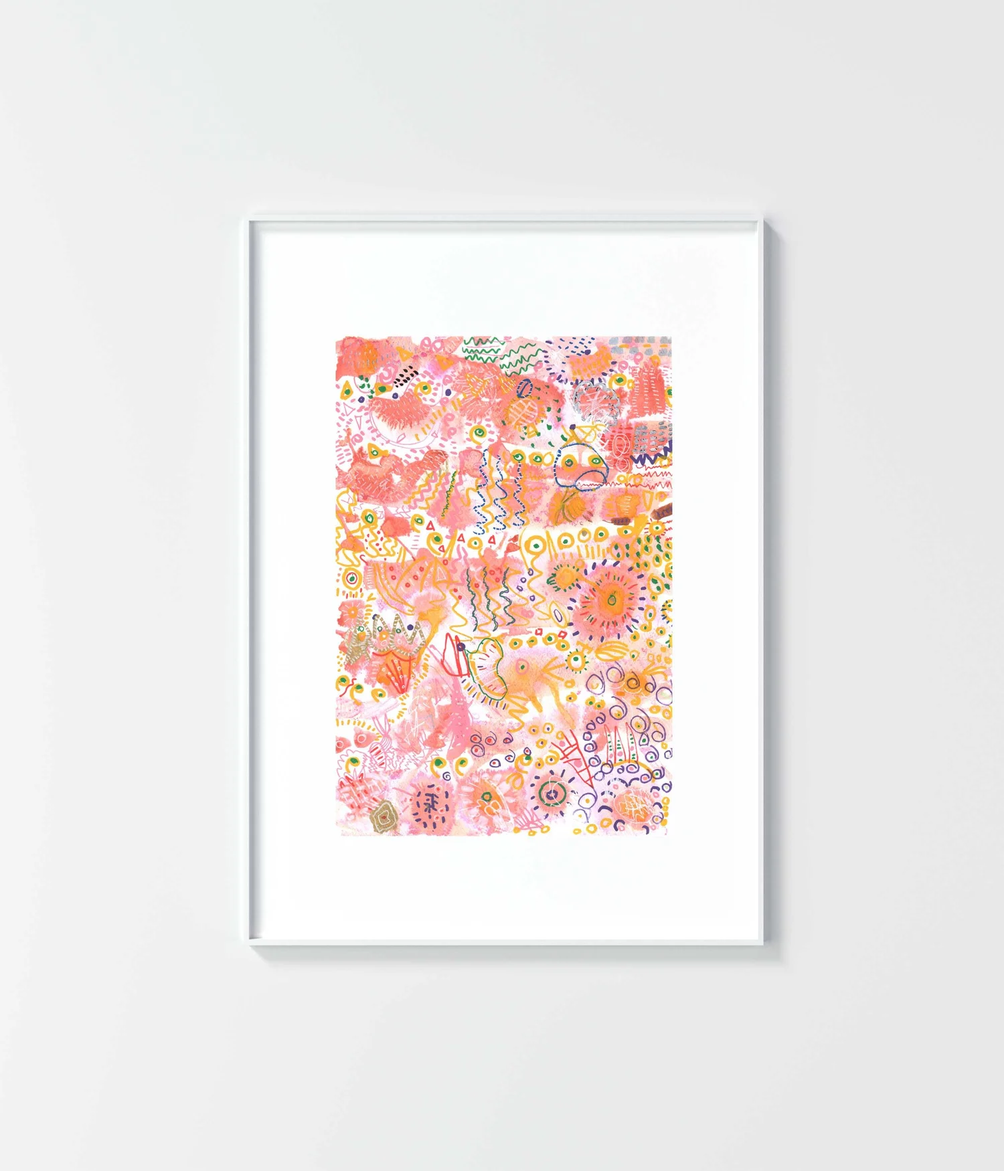painting: (242, 211, 768, 947)
